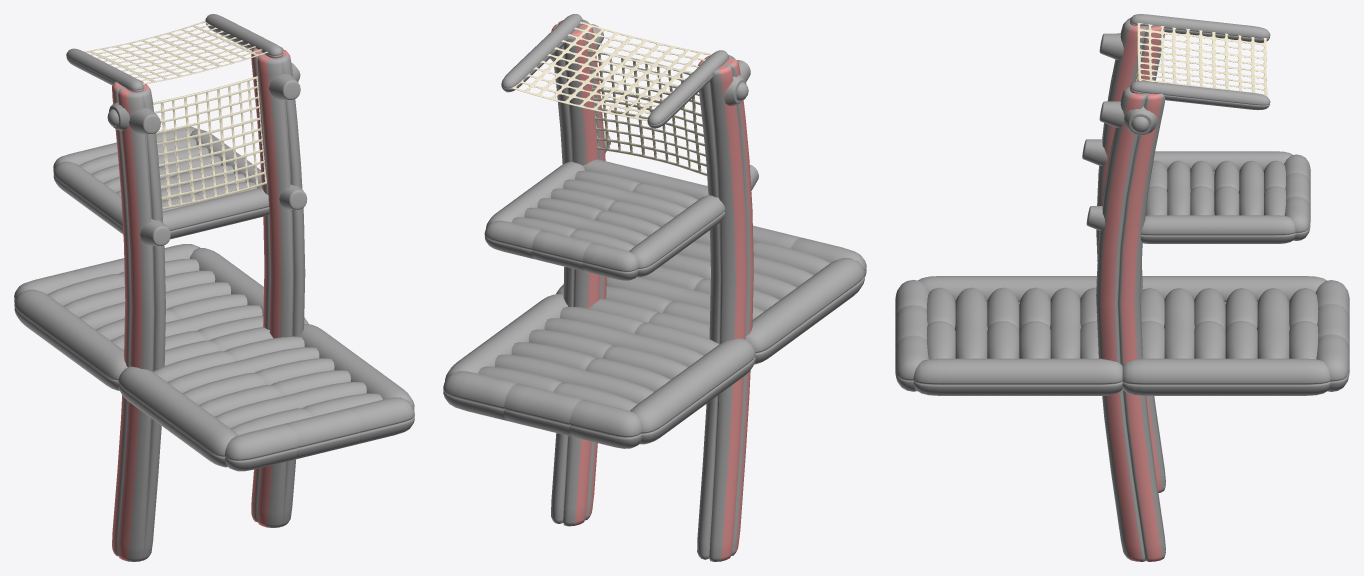
File: 3LayerPlatform.fbx
The picture shows the model from 3 angles, left to right: view 1: azimuth 30°, elevation 25°; view 2: azimuth 150°, elevation 25°; view 3: azimuth 270°, elevation 25°; orthographic projection. The views are drawn at different scales.
Parts seen in each view (by area): view 1: polySurface2295, polySurface2296, polySurface2316, red__1__30, polySurface2315, polySurface2303, polySurface2324, polySurface2289, polySurface2319, polySurface2288, polySurface2318, polySurface2313 (+27 smaller); view 2: polySurface2295, polySurface2296, polySurface2310, polySurface2324, polySurface2303, polySurface2315, polySurface2286, red__1__30, polySurface2288, polySurface2311, polySurface2306, polySurface2307 (+22 smaller); view 3: polySurface2296, polySurface2319, polySurface2311, polySurface2287, polySurface2324, polySurface2295, polySurface2310, polySurface2316, polySurface2303, polySurface2315, polySurface2323, polySurface2313 (+20 smaller).
Boxes of the visible parts, box(x1,y1,x2,y2) form: polySurface2295: box(112, 79, 165, 561); polySurface2296: box(251, 46, 305, 527); polySurface2316: box(225, 397, 414, 471); red__1__30: box(153, 76, 266, 209); polySurface2315: box(118, 366, 237, 467); polySurface2303: box(14, 289, 127, 390); polySurface2324: box(84, 21, 268, 84); polySurface2289: box(162, 187, 269, 239); polySurface2319: box(299, 324, 414, 410); polySurface2288: box(53, 161, 123, 234); polySurface2318: box(183, 358, 334, 405); polySurface2313: box(215, 382, 366, 428); polySurface2295: box(697, 55, 753, 561); polySurface2296: box(551, 19, 606, 526); polySurface2310: box(443, 371, 641, 448); polySurface2324: box(511, 22, 711, 120); polySurface2303: box(630, 338, 755, 444); polySurface2315: box(745, 258, 864, 364); polySurface2286: box(484, 220, 638, 280); red__1__30: box(588, 50, 707, 175); polySurface2288: box(629, 195, 725, 277); polySurface2311: box(445, 294, 568, 381); polySurface2306: box(528, 329, 687, 379); polySurface2307: box(511, 342, 670, 391); polySurface2296: box(1096, 85, 1165, 561); polySurface2319: box(913, 358, 1122, 395); polySurface2311: box(1122, 358, 1330, 395); polySurface2287: box(1140, 215, 1295, 243); polySurface2324: box(1137, 23, 1267, 96); polySurface2295: box(1096, 18, 1165, 492); polySurface2310: box(1315, 280, 1349, 391); polySurface2316: box(895, 280, 929, 391); polySurface2303: box(1142, 276, 1326, 305); polySurface2315: box(918, 276, 1096, 304); polySurface2323: box(1130, 81, 1270, 110); polySurface2313: box(955, 287, 987, 358).
Bounding box in the file's own units: 973 × 2192 × 1905.
